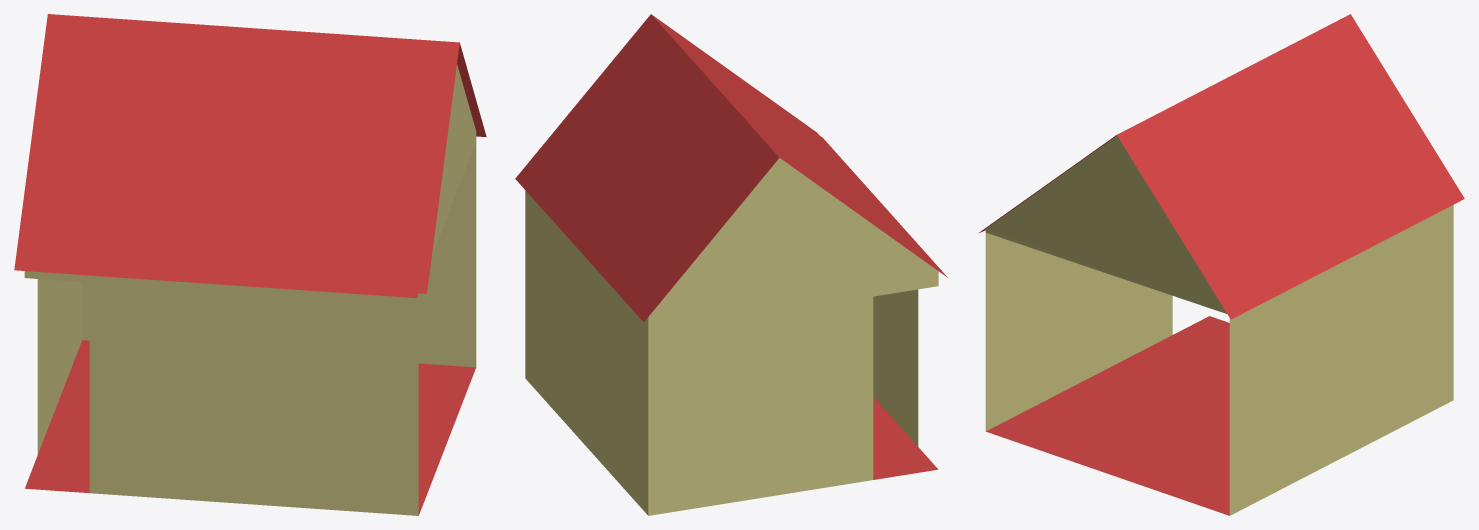
The picture shows the model from 3 angles, left to right: view 1: azimuth 30°, elevation 25°; view 2: azimuth 150°, elevation 25°; view 3: azimuth 270°, elevation 25°; orthographic projection. The views are drawn at different scales.
Size of the model in its own units: 15.39 by 15.14 by 11.86.
